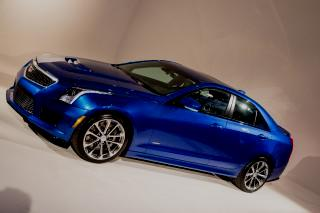cadillac: (27, 64, 38, 75)
